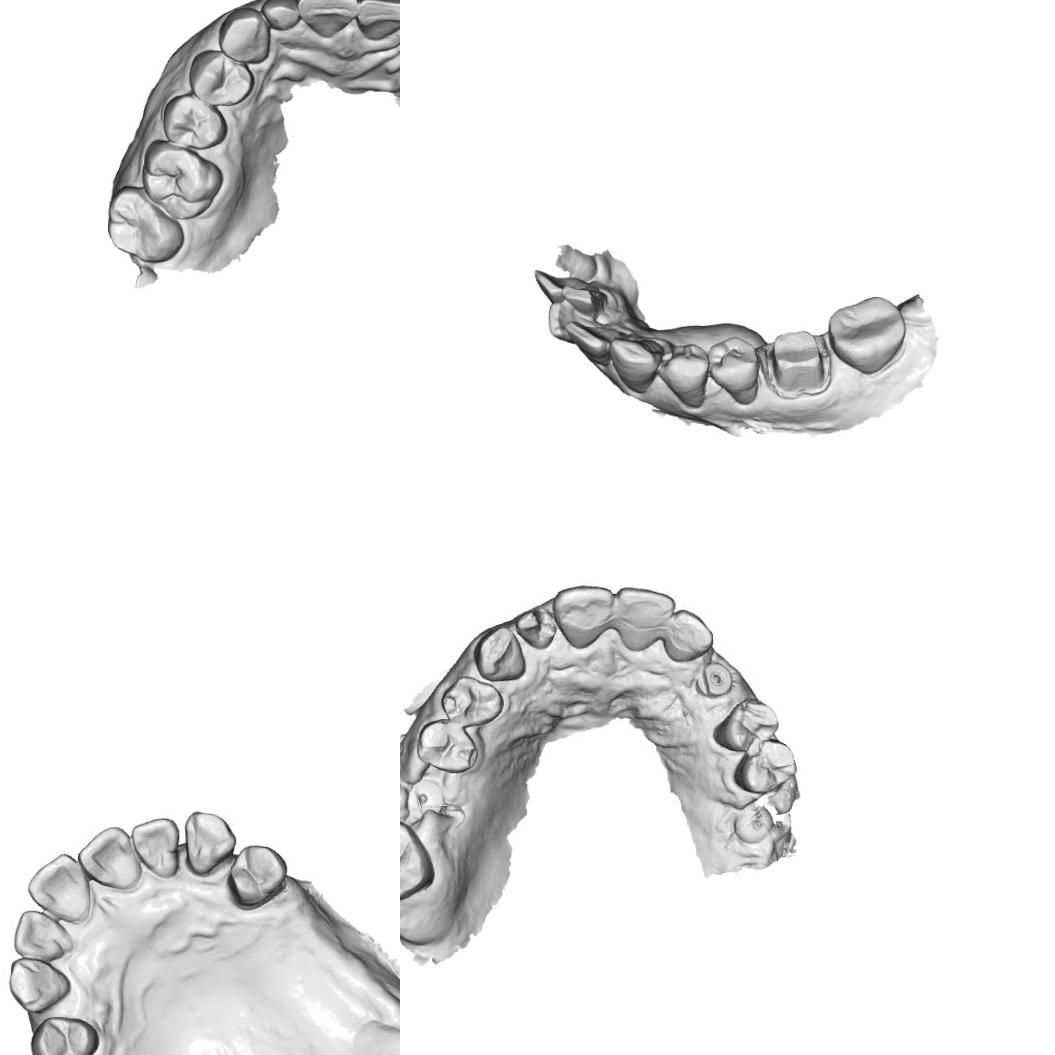canine: (180, 808, 233, 876), (607, 334, 663, 395), (7, 956, 70, 1010), (216, 6, 272, 66), (472, 626, 526, 683)
crown: (767, 323, 829, 398)
implant: (404, 776, 444, 818), (735, 800, 773, 844), (698, 660, 734, 701)
incisor: (608, 584, 674, 652), (79, 822, 143, 889), (26, 853, 90, 918), (552, 582, 612, 648), (13, 909, 70, 964), (562, 320, 622, 372), (663, 609, 716, 666), (130, 817, 180, 874), (298, 0, 358, 40), (546, 302, 594, 344), (529, 268, 586, 302), (357, 0, 400, 43), (259, 0, 304, 34), (560, 284, 606, 316)
molar: (139, 136, 226, 224), (828, 292, 909, 378), (105, 184, 187, 264), (400, 817, 436, 903)
premolar: (184, 48, 258, 107), (161, 92, 231, 152), (228, 842, 290, 908), (716, 694, 782, 756), (657, 342, 716, 409), (707, 332, 762, 398), (732, 742, 799, 796), (26, 1012, 103, 1055), (415, 722, 477, 773), (442, 674, 503, 723)
